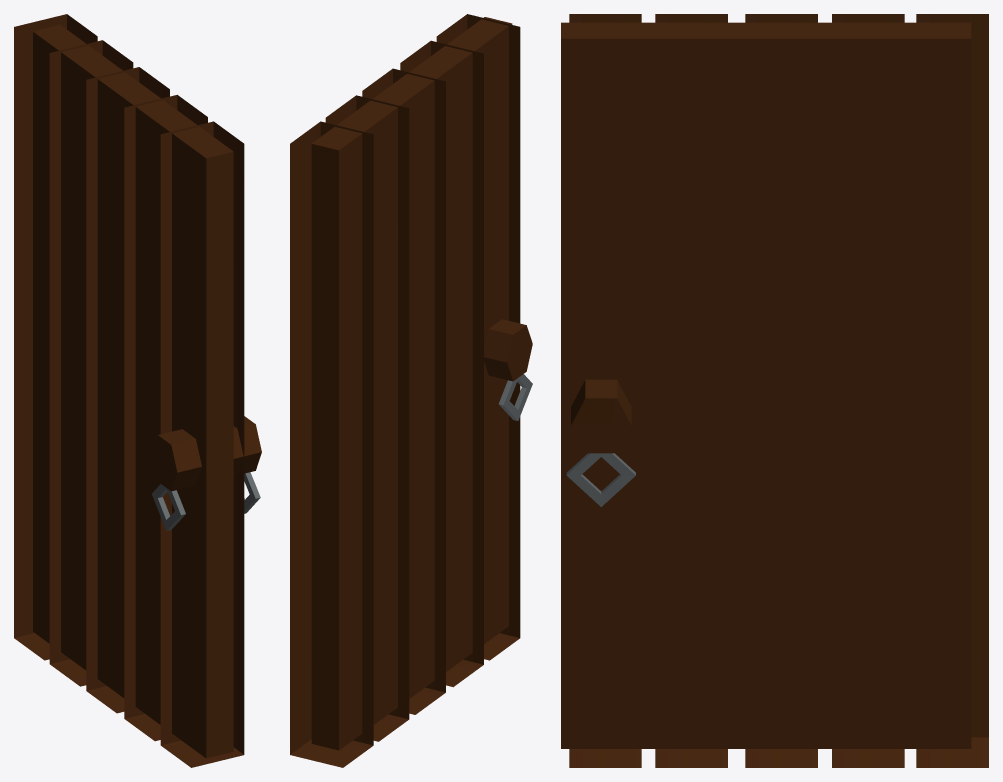
Rendered from doors.fbx.
3 renders of one model, left to right at view 1: azimuth 30°, elevation 25°; view 2: azimuth 150°, elevation 25°; view 3: azimuth 270°, elevation 25°, orthographic. The views are drawn at different scales.
Parts seen in each view (by area): view 1: Cube, Cylinder; view 2: Cube, Cylinder; view 3: Cube, Cylinder.001.
Boxes of the visible parts, box(x1,y1,x2,y2) form: Cube: box(14, 14, 261, 767); Cylinder: box(152, 484, 185, 530); Cube: box(290, 14, 532, 767); Cylinder: box(498, 374, 532, 420); Cube: box(561, 14, 988, 767); Cylinder.001: box(566, 453, 635, 506).
Bounding box in the file's own units: 88.1 × 609 × 327.
Materials: 2 (2 with a texture image).
